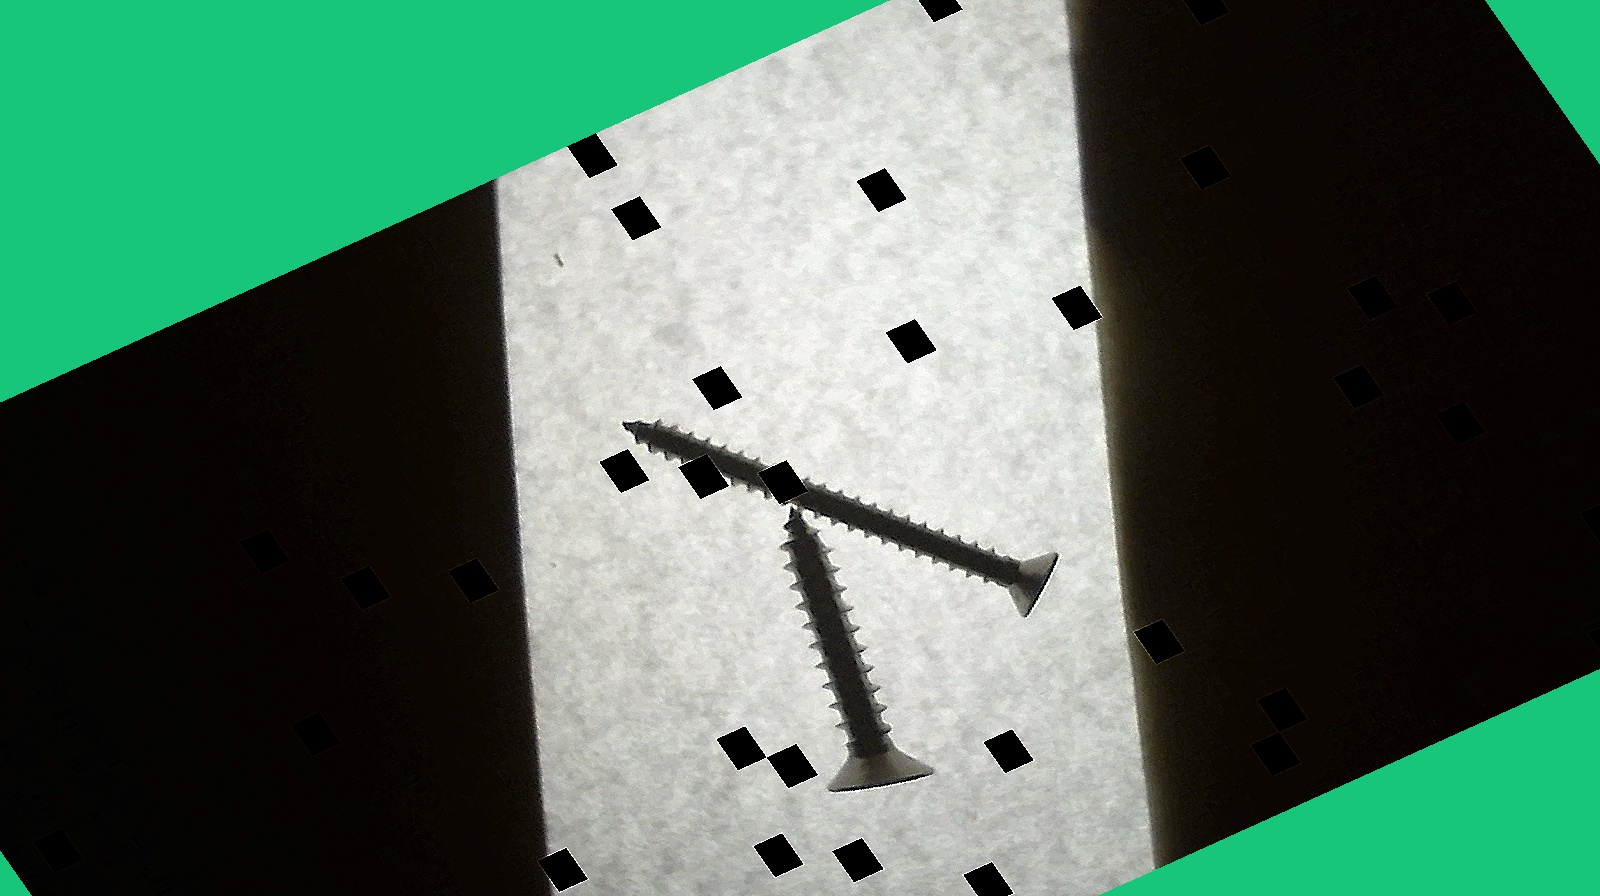S001: (666, 502, 978, 817)
S002: (607, 299, 1085, 714)
